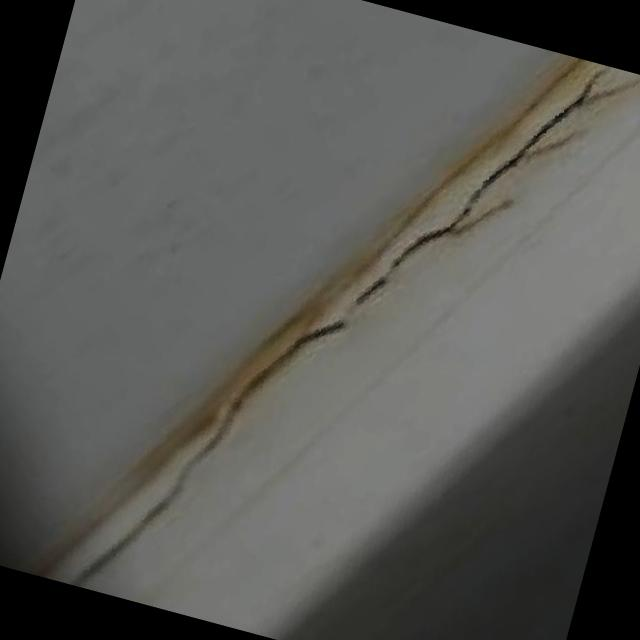crack: (150, 396, 232, 526), (72, 498, 152, 599), (466, 128, 526, 224), (232, 332, 292, 414), (530, 86, 596, 155), (408, 208, 459, 274), (593, 65, 640, 112), (296, 310, 342, 352), (367, 261, 394, 304)
